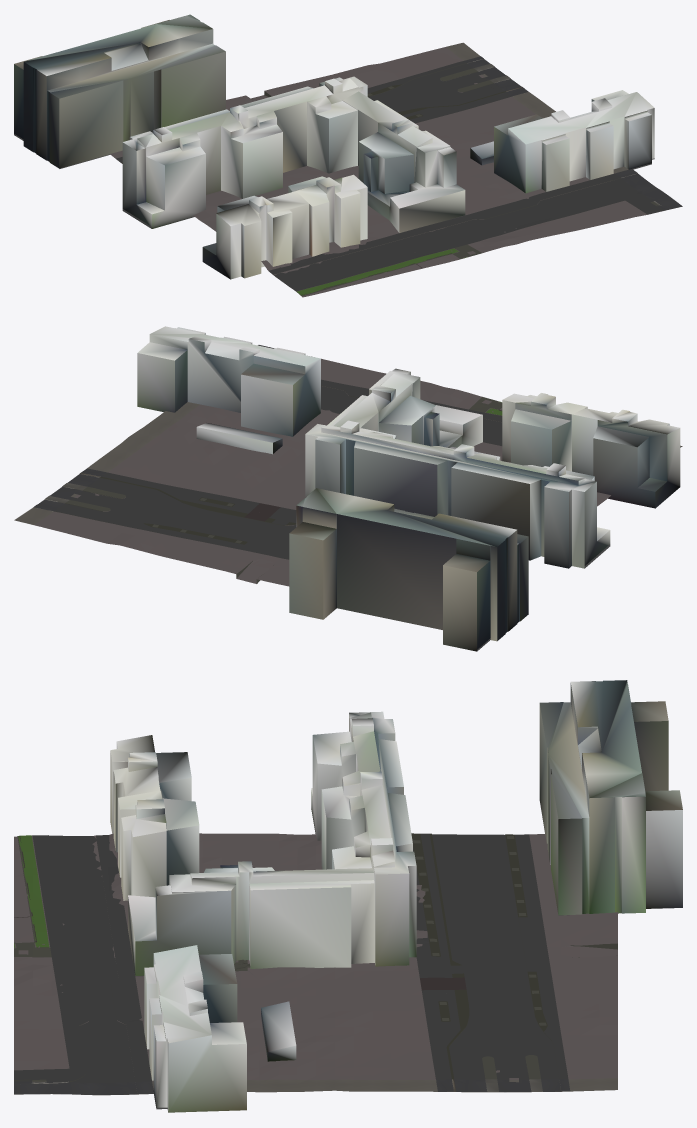
3 views of the same model, one above another, from view 1: azimuth 30°, elevation 25°; view 2: azimuth 150°, elevation 25°; view 3: azimuth 270°, elevation 25° (orthographic). The views are drawn at different scales.
Visible parts, largest first — view 1: c_m15_p05; view 2: c_m15_p05; view 3: c_m15_p05.
Boxes of the visible parts, x1,y1,x2,y2 form: c_m15_p05: [14, 14, 682, 297]; c_m15_p05: [14, 326, 682, 651]; c_m15_p05: [14, 680, 682, 1112].
Size of the model in its own units: 156 by 28.79 by 142.
